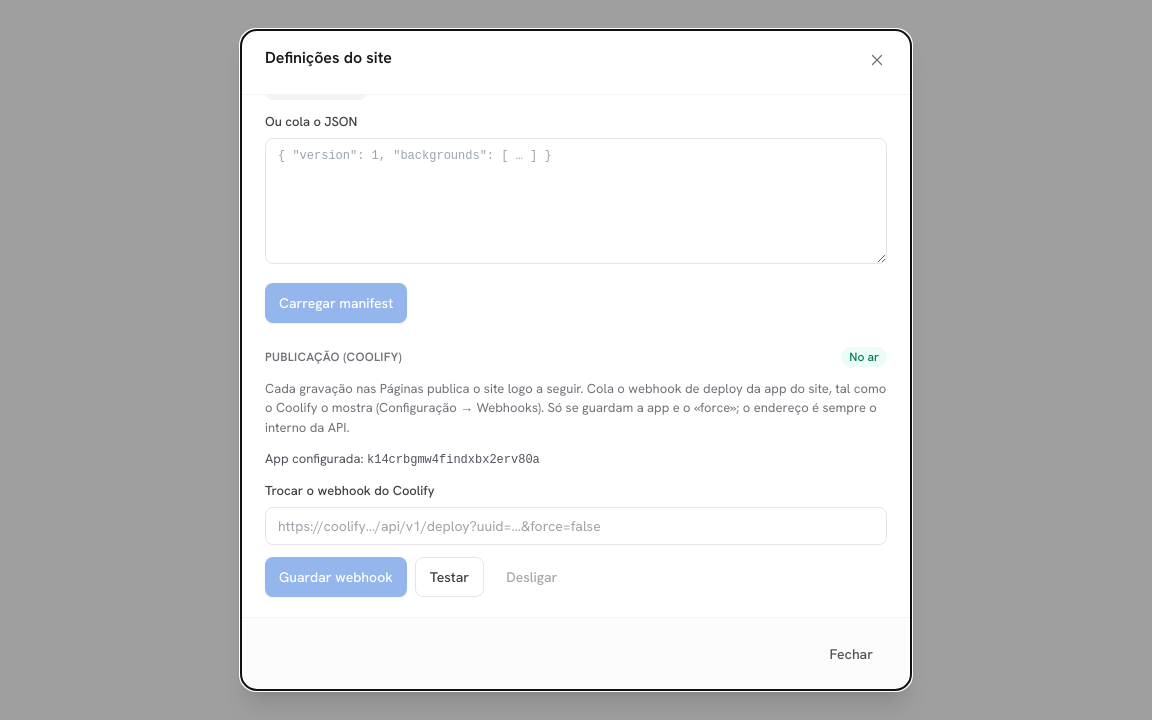
Test: Definições do site — sessão de suporte › Testar fica desligado com um webhook escrito; o resultado mostra cada verificação
(page scrolled)
Expected: the button "Testar" is enabled, [415,557,484,597]
In the field labelled "Trocar o webhook do Coolify": x=576, y=526 [265,507,887,545], type "https://x/api/v1/deploy?uuid=abcdef123456"
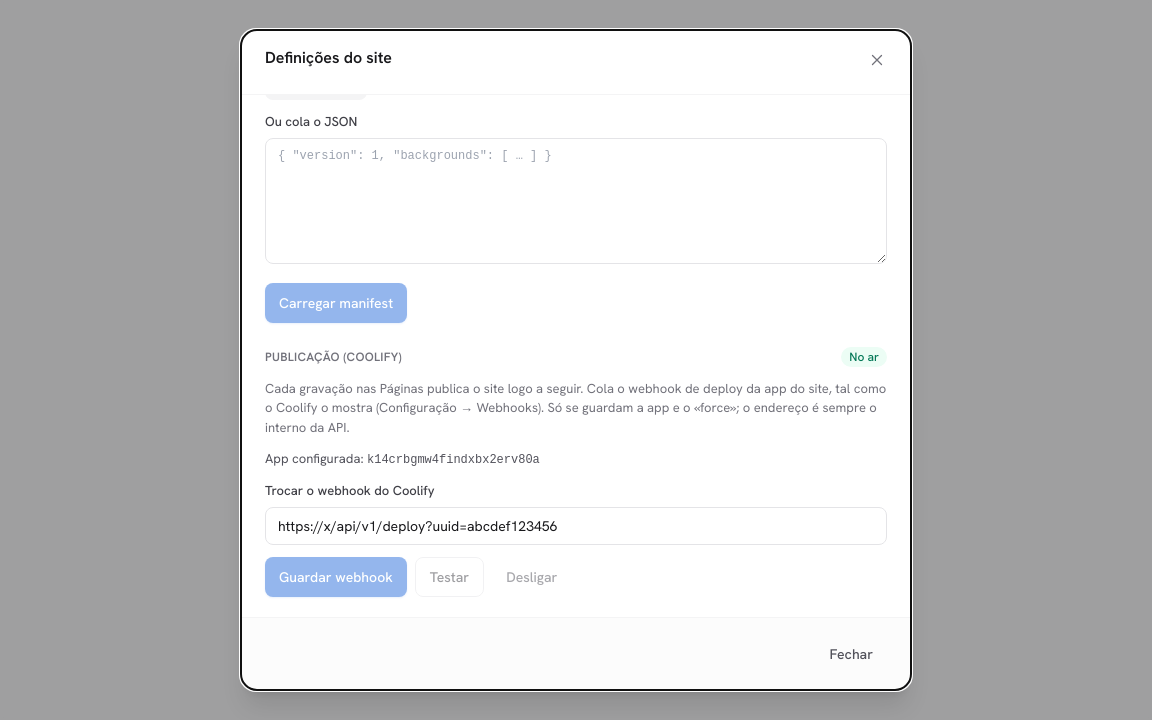
Expected: the button "Testar" is disabled, [415,557,484,597]
Clear the field labelled "Trocar o webhook do Coolify": x=576, y=526 [265,507,887,545]
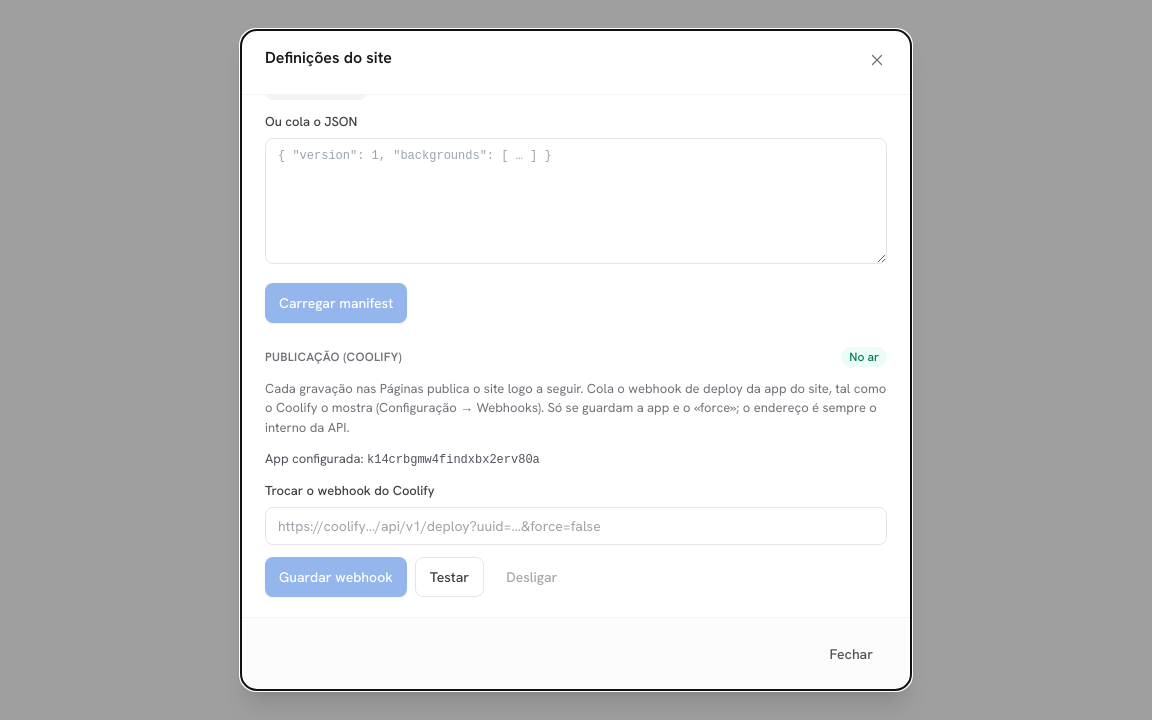
Click the button "Testar": x=450, y=577 [415,557,484,597]
(page scrolled)
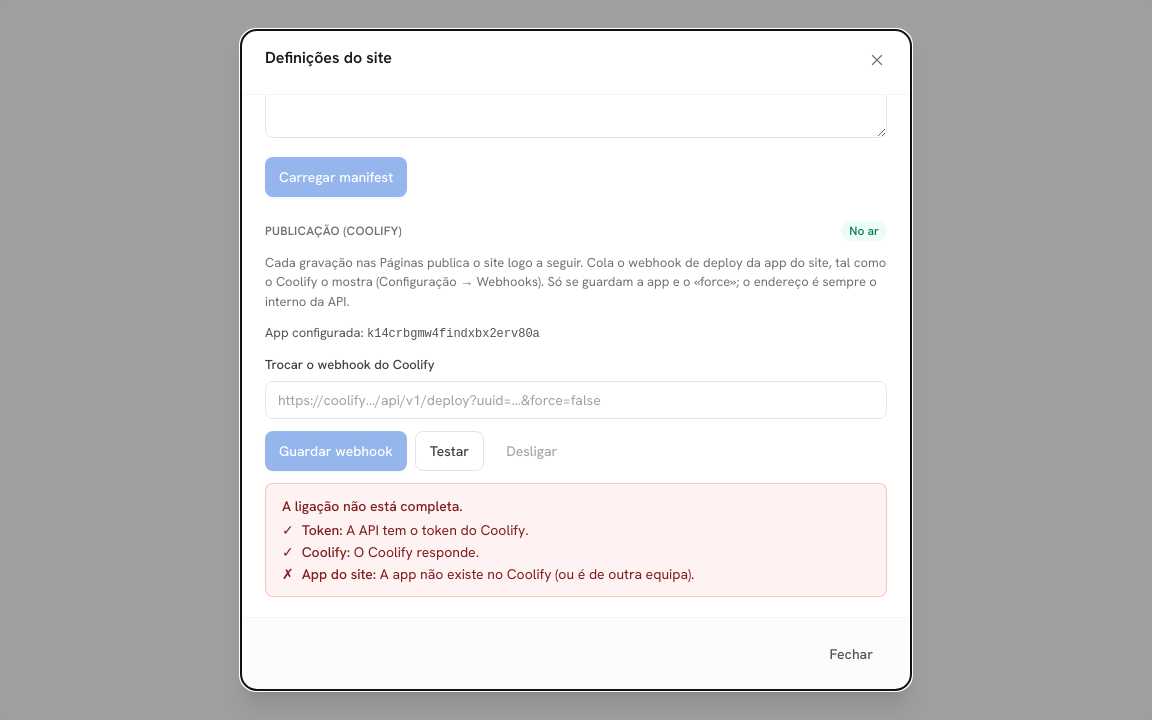
Expected: the message with test id "publish-test-result" shows "A ligação não está completa.", [282,497,463,515]
Expected: the message with test id "publish-test-result" shows "App do site: A app não existe no Coolify", [265,483,887,597]
